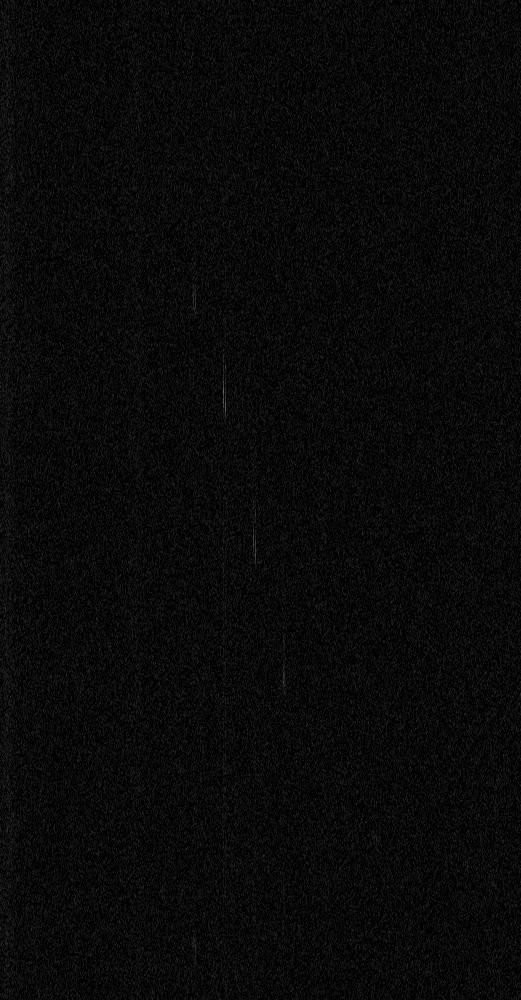signal: (0, 0, 520, 999)
